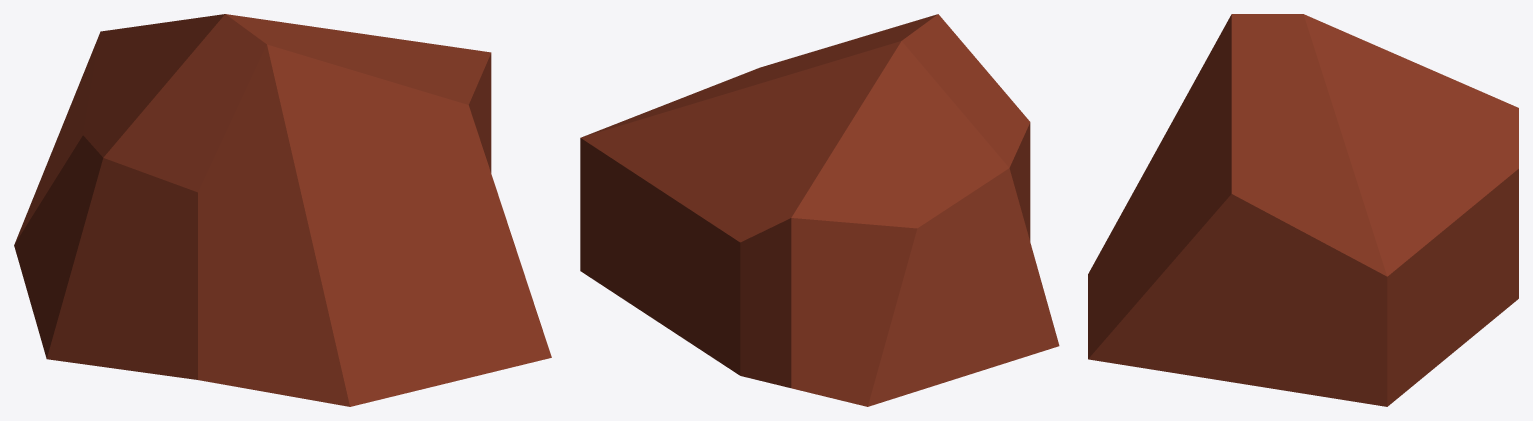
Rendered from Rock 1.fbx.
The picture shows the model from 3 angles, left to right: view 1: azimuth 30°, elevation 25°; view 2: azimuth 150°, elevation 25°; view 3: azimuth 270°, elevation 25°; orthographic projection. The views are drawn at different scales.
Visible parts, largest first — view 1: Cube; view 2: Cube; view 3: Cube.
Part boxes in pixels (x1,y1,x2,y2): Cube: (14,14,551,406); Cube: (580,14,1059,406); Cube: (1088,14,1518,406).
Size of the model in its own units: 342 by 200 by 300.
